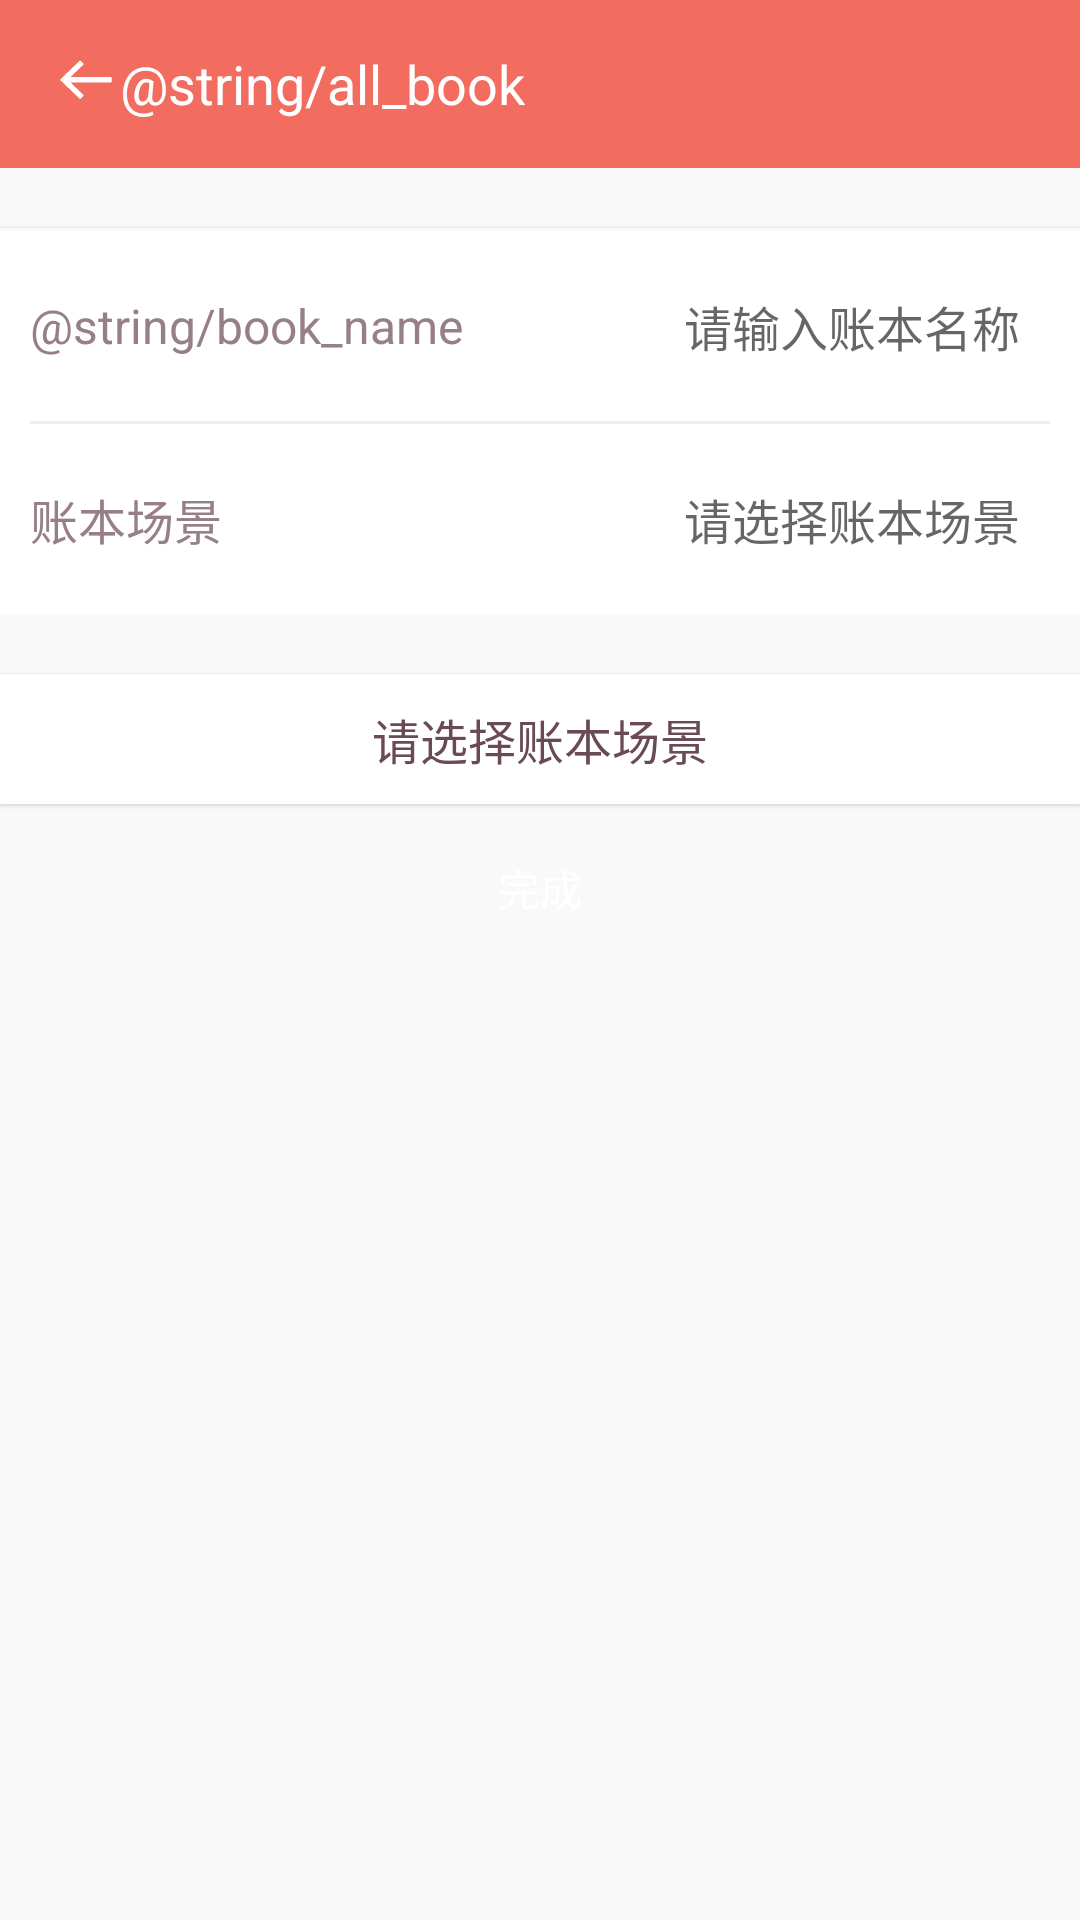

Screen size 1080x1920. Icon name, then its center in pixels as point (x, y):
back: point (86, 79)
